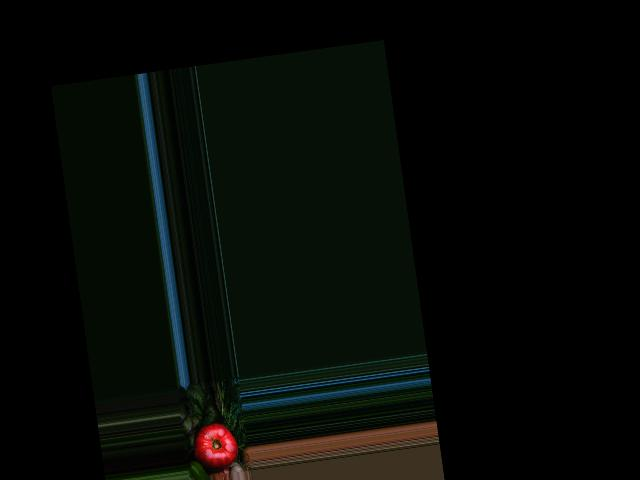tomato: (189, 421, 240, 475)
